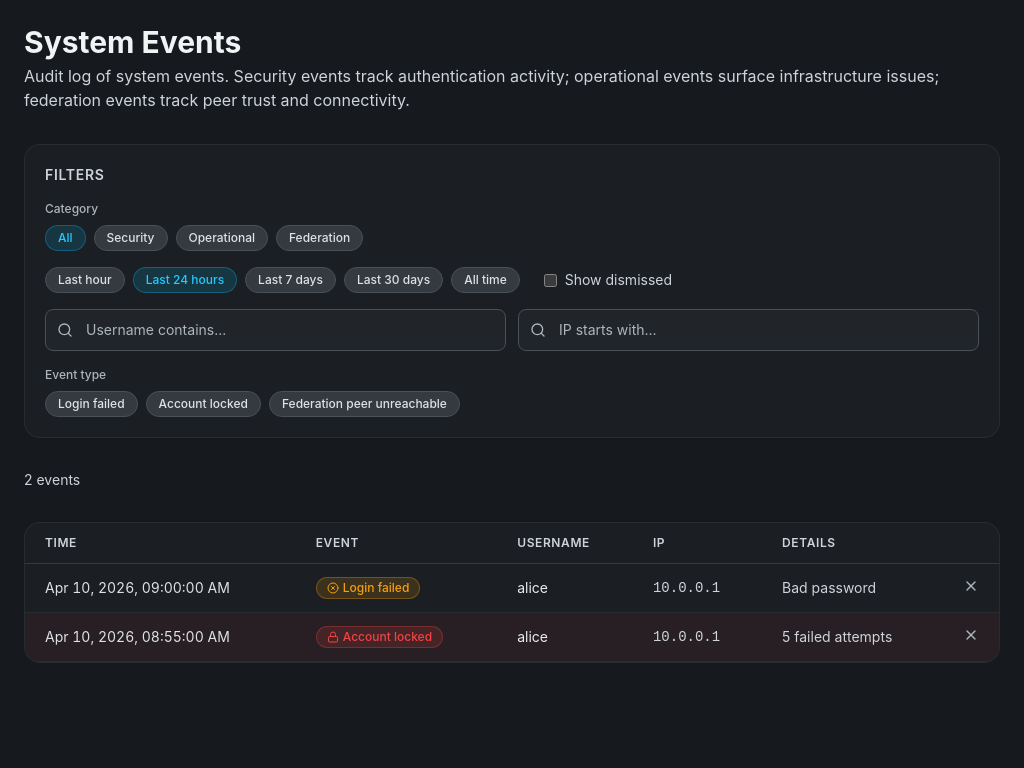
Test: AdminSystemEventsPage › clicking the username pivot narrows the filters and closes the modal
This screenshot has width=1024, height=768.
Click the row that starts with "Apr 10, 2026, 09:00:00 AM" at (512, 588), box [25,564,999,612]
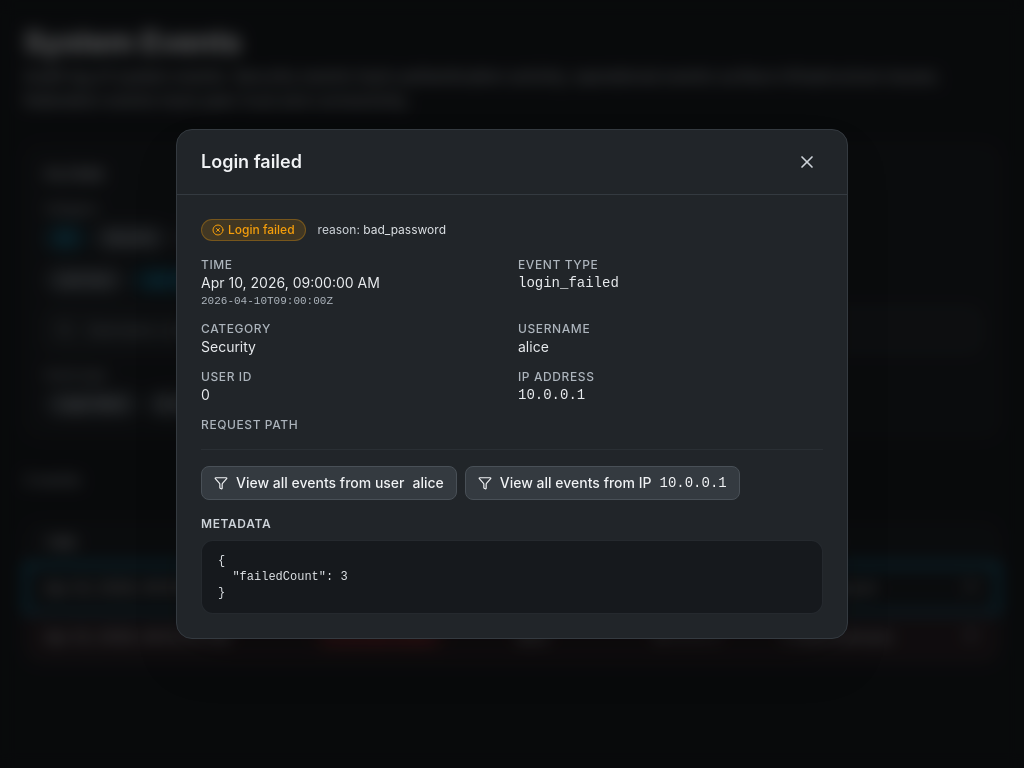
Check: the dialog is shown, box [176,129,848,639]
Click the button "View all events from user alice" at (329, 483), box [201,466,457,500]
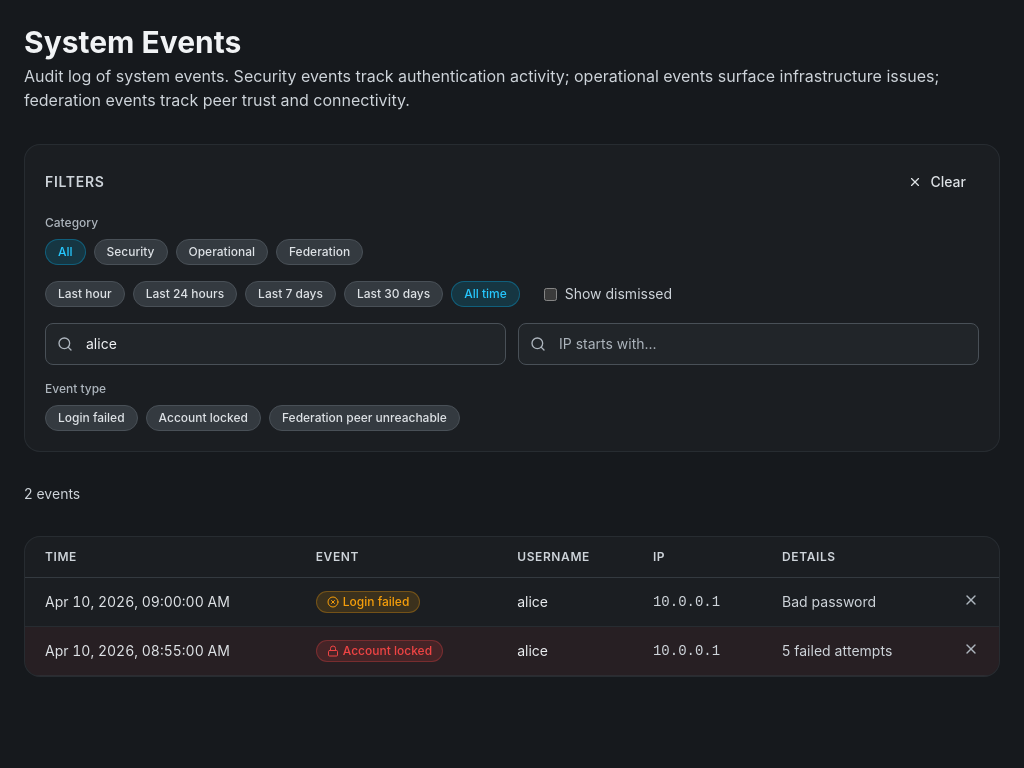
Check: the dialog is gone
